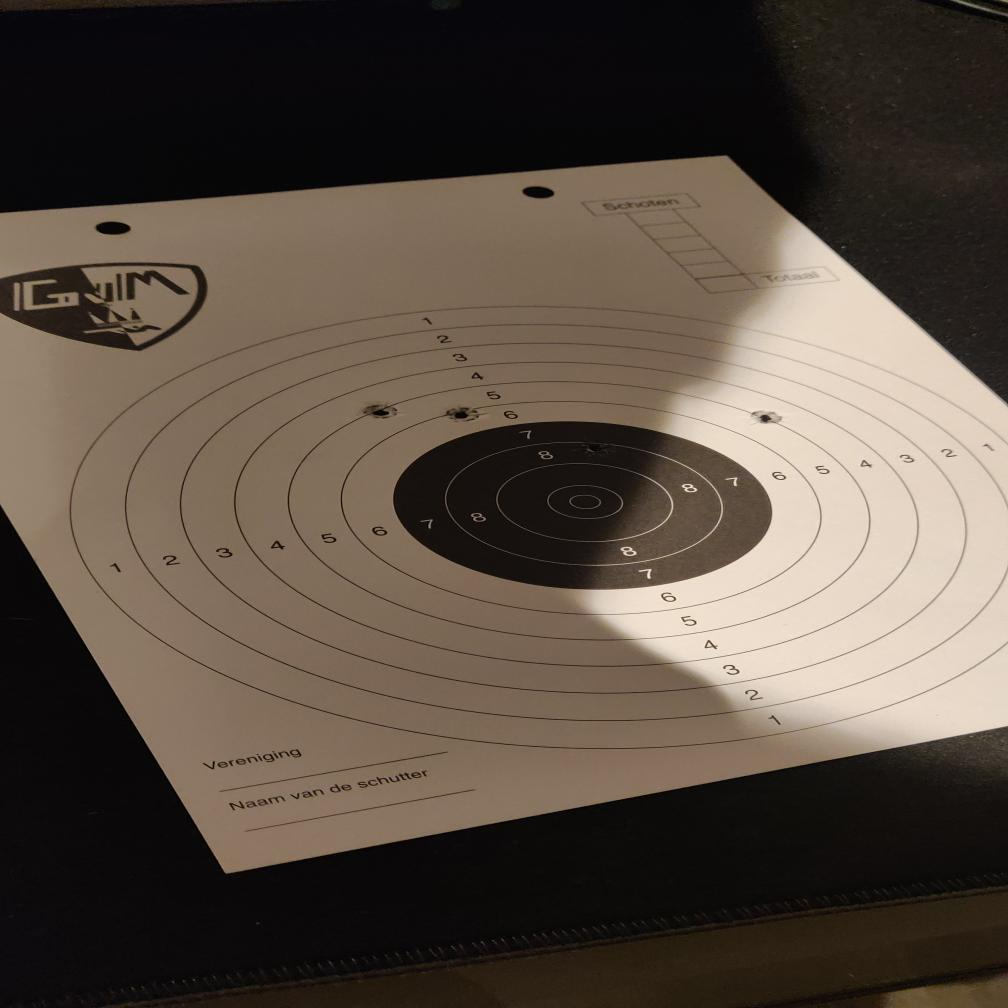5: (359, 402, 404, 420), (749, 409, 785, 426)
6: (444, 405, 488, 423)
8: (574, 440, 618, 459)
Target: (65, 301, 1008, 751)
black_contour: (391, 420, 773, 591)
